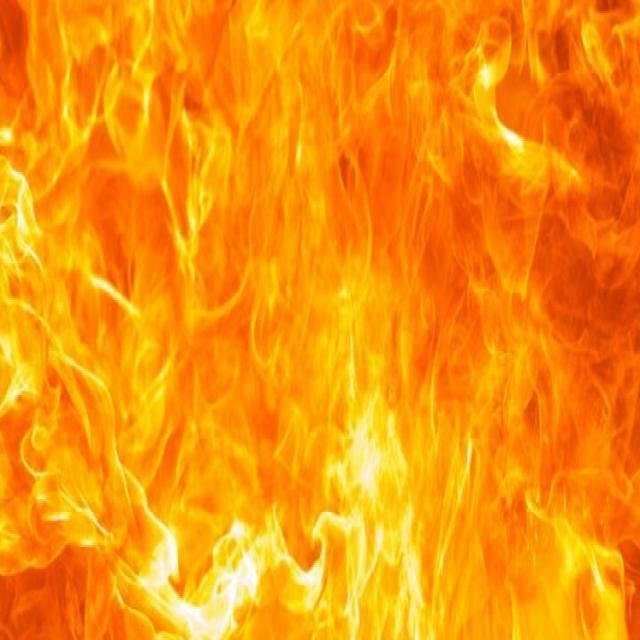Fire: (1, 6, 630, 634)
